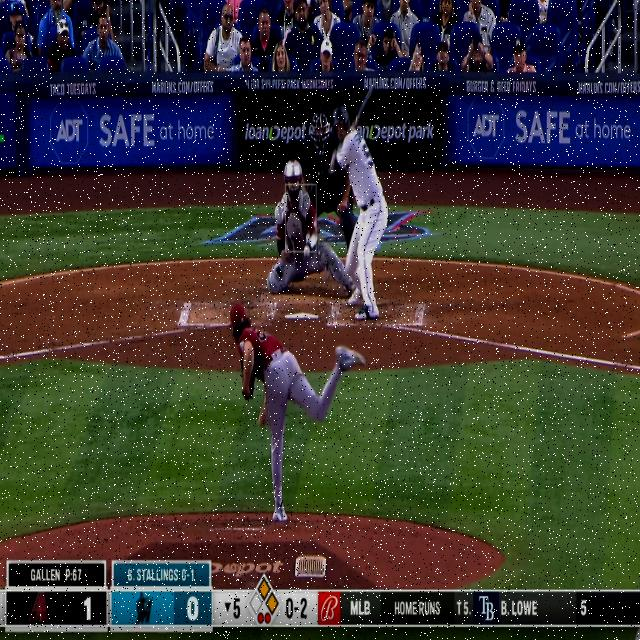baseball: (302, 243, 312, 260)
